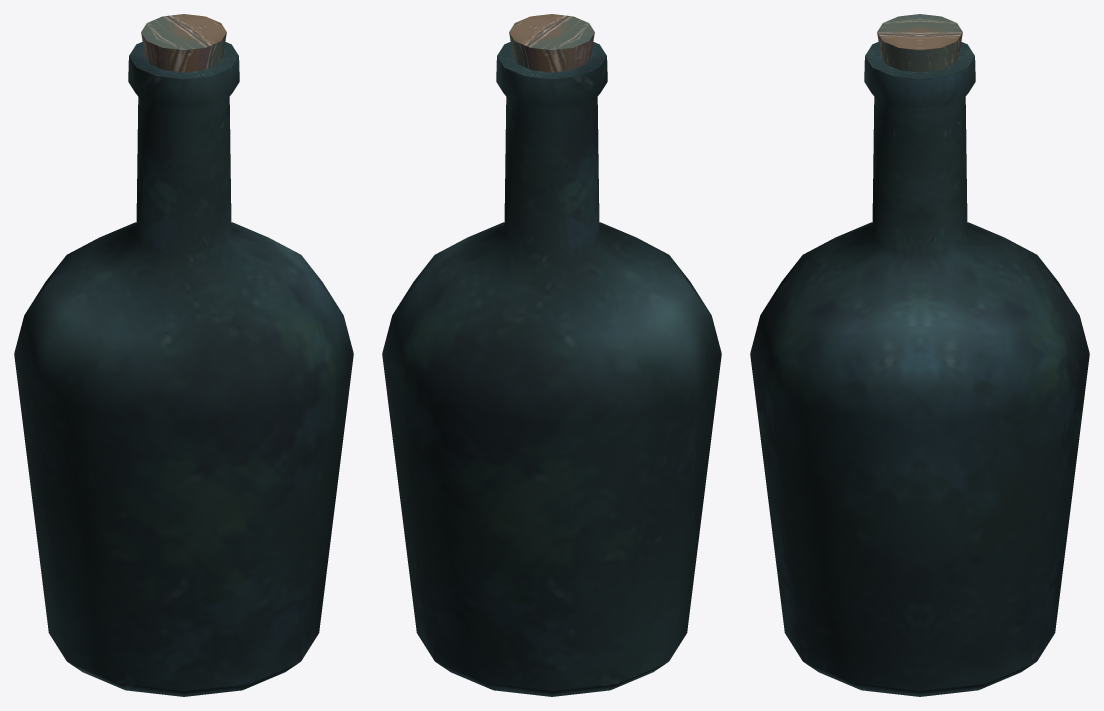
Rendered from village_bottle_08.fbx.
3 views of the same model, side by side, from view 1: azimuth 30°, elevation 25°; view 2: azimuth 150°, elevation 25°; view 3: azimuth 270°, elevation 25° (orthographic).
Parts seen in each view (by area): view 1: village_bottle_08; view 2: village_bottle_08; view 3: village_bottle_08.
Boxes of the visible parts, x1=… form: village_bottle_08: x1=14, y1=14, x2=353, y2=696; village_bottle_08: x1=382, y1=14, x2=721, y2=696; village_bottle_08: x1=750, y1=14, x2=1089, y2=696.
Bounding box in the file's own units: 15.53 × 31.05 × 15.53.
